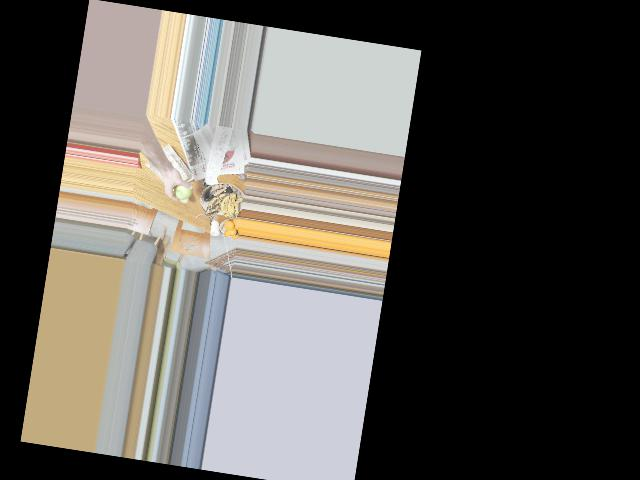apple: (170, 178, 194, 203)
